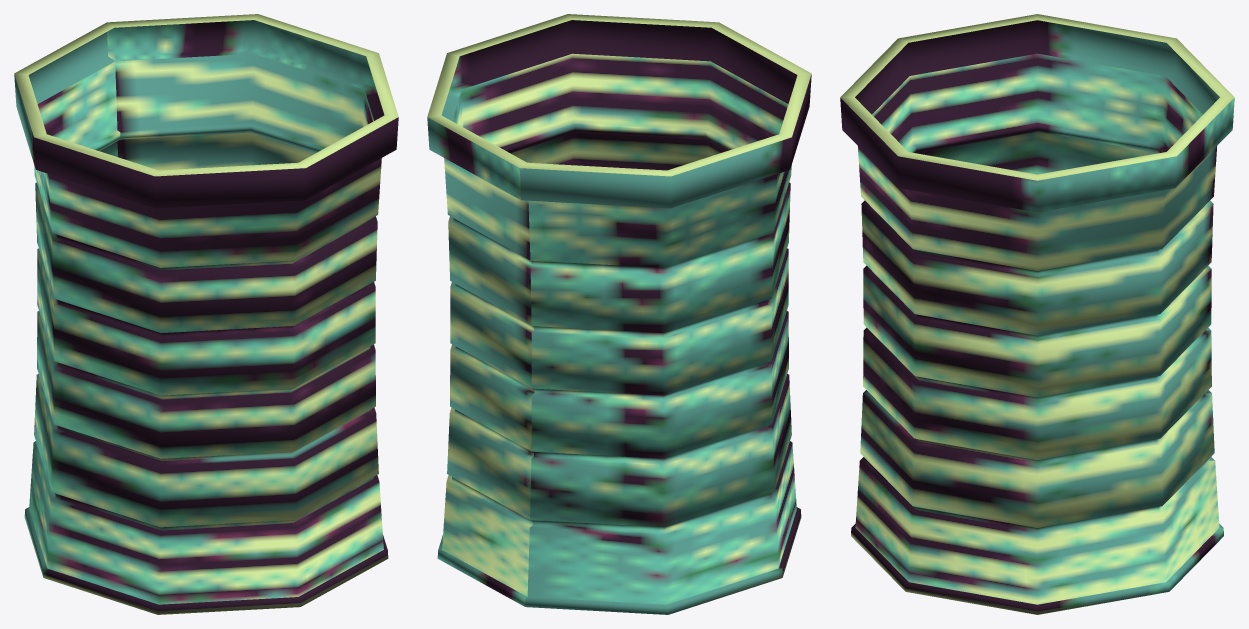
File: can.fbx
3 renders of one model, left to right at view 1: azimuth 30°, elevation 25°; view 2: azimuth 150°, elevation 25°; view 3: azimuth 270°, elevation 25°, orthographic.
Visible parts, largest first — view 1: tin can.003; view 2: tin can.003; view 3: tin can.003.
Part boxes in pixels (x1,y1,x2,y2): tin can.003: (14,14,398,614); tin can.003: (427,14,811,614); tin can.003: (840,14,1234,614).
Bounding box in the file's own units: 261 × 320 × 261.
Materials: 1 (1 with a texture image).
